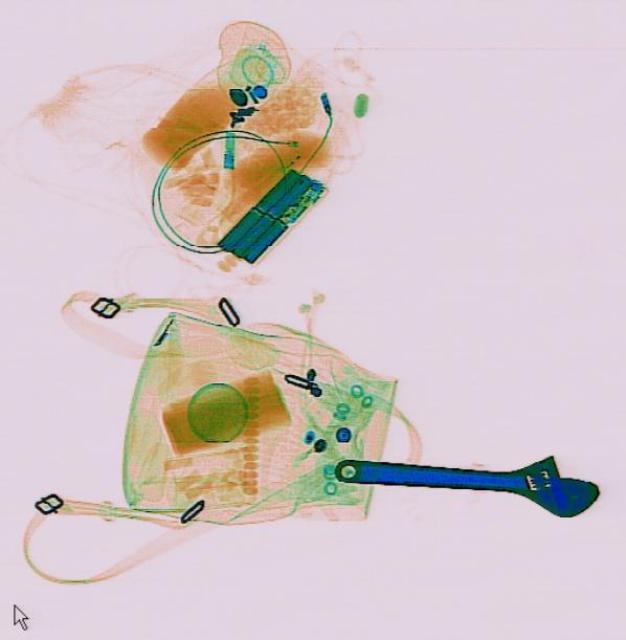Wrench: (329, 438, 600, 518)
